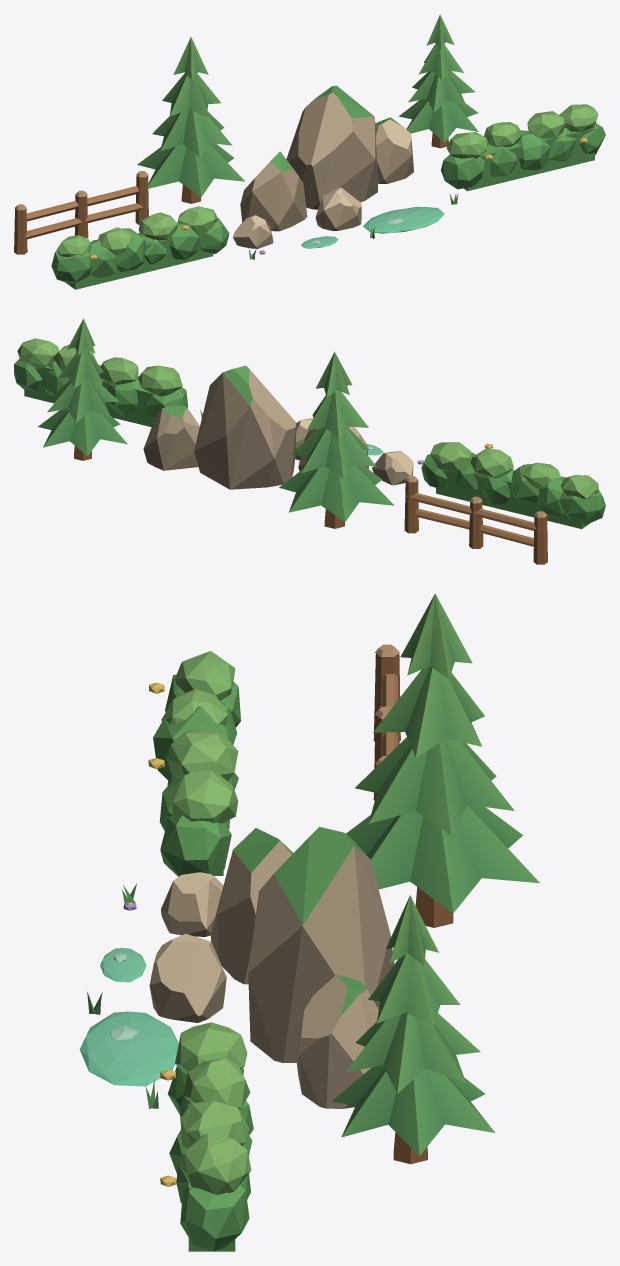
Rendered from ranch_border_chunk_f_m.fbx.
The picture shows the model from 3 angles, top to bottom: view 1: azimuth 30°, elevation 25°; view 2: azimuth 150°, elevation 25°; view 3: azimuth 270°, elevation 25°; orthographic projection. The views are drawn at different scales.
Parts seen in each view (by area): view 1: ranch_border_chunk_f_m; view 2: ranch_border_chunk_f_m; view 3: ranch_border_chunk_f_m.
Part boxes in pixels (x1=…): ranch_border_chunk_f_m: x1=14, y1=14, x2=605, y2=289; ranch_border_chunk_f_m: x1=14, y1=318, x2=605, y2=564; ranch_border_chunk_f_m: x1=79, y1=593, x2=539, y2=1251.
Size of the model in its own units: 54.46 by 15.54 by 19.7.
